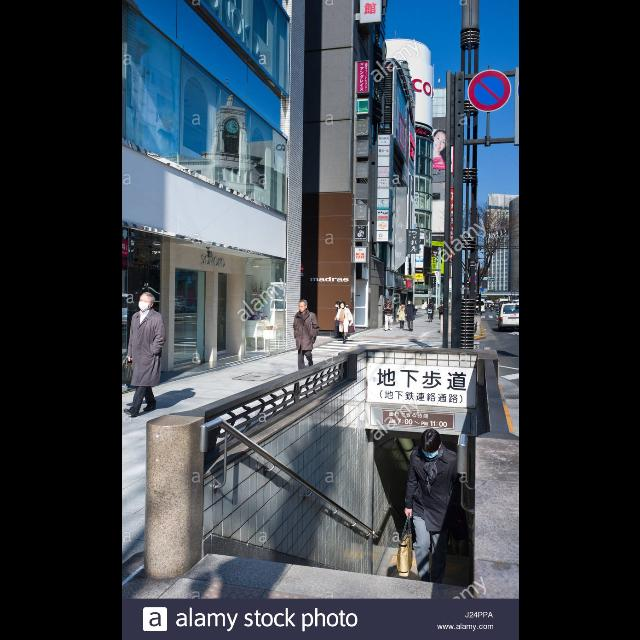head: (421, 429, 443, 458), (138, 292, 156, 310), (297, 300, 307, 312), (339, 302, 345, 308), (335, 302, 341, 308), (385, 299, 389, 305), (407, 300, 411, 306), (402, 305, 404, 309), (441, 304, 444, 306)
person: (393, 427, 469, 598), (122, 290, 168, 418), (292, 300, 318, 372), (332, 301, 353, 344), (332, 301, 344, 339), (382, 298, 394, 332), (404, 300, 416, 332), (396, 303, 406, 329), (436, 303, 446, 319)
